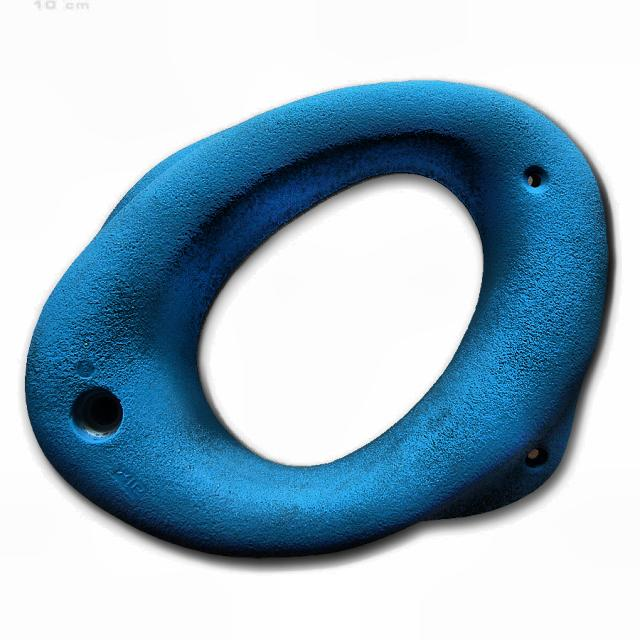Hold: (21, 80, 614, 570)
